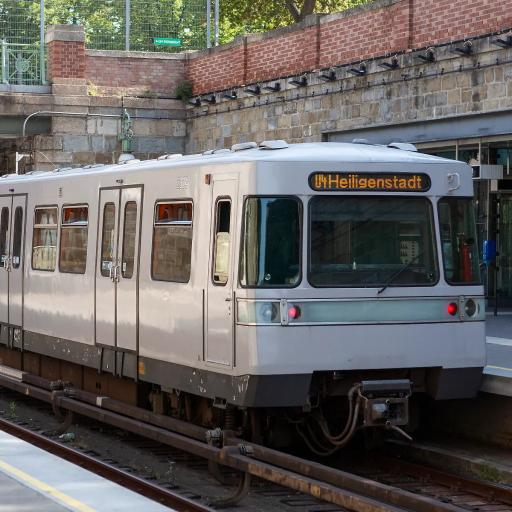Silberpfeil: (0, 122, 491, 420)
